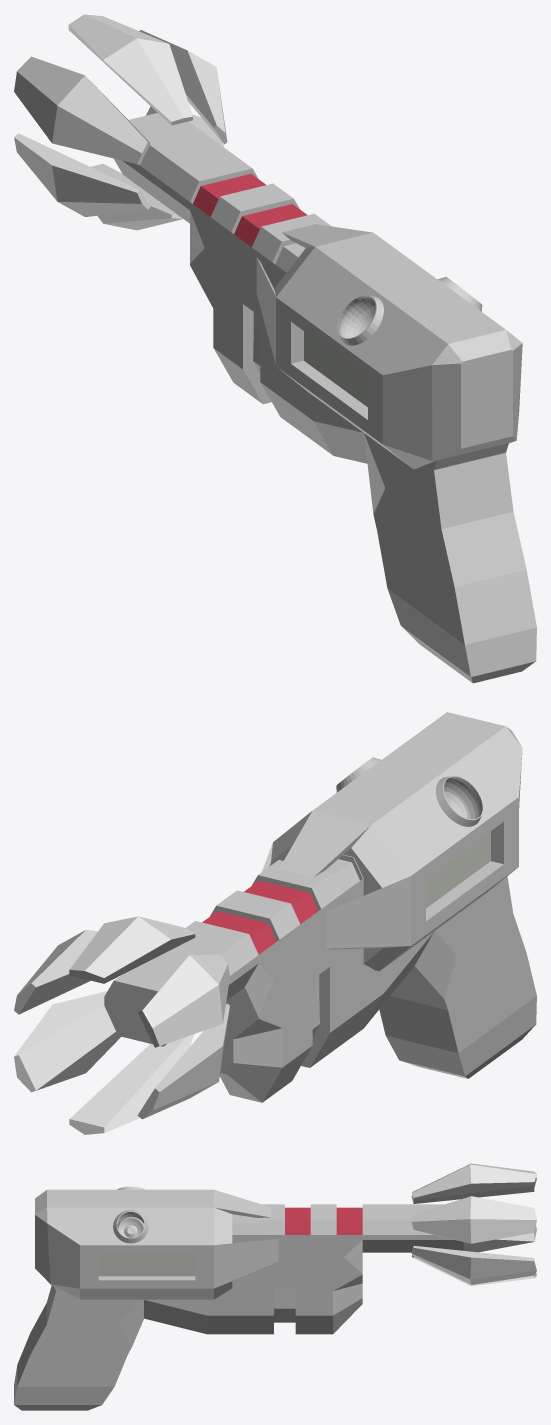
File: KickGunv2.fbx
The picture shows the model from 3 angles, top to bottom: view 1: azimuth 30°, elevation 25°; view 2: azimuth 150°, elevation 25°; view 3: azimuth 270°, elevation 25°; orthographic projection. The views are drawn at different scales.
Visible parts, largest first — view 1: Cube, Cube.001, Cylinder; view 2: Cube, Cube.001, Cylinder; view 3: Cube, Cube.001, Cylinder.
Boxes of the visible parts, <box> form: Cube: <box>114,113,536,683</box>; Cube.001: <box>256,224,522,469</box>; Cylinder: <box>14,14,227,230</box>; Cube: <box>104,854,536,1102</box>; Cube.001: <box>262,712,522,971</box>; Cylinder: <box>14,916,229,1134</box>; Cube: <box>14,1204,463,1410</box>; Cube.001: <box>35,1186,278,1299</box>; Cylinder: <box>411,1163,536,1286</box>.
Bounding box in the file's own units: 251 × 538 × 1074.
